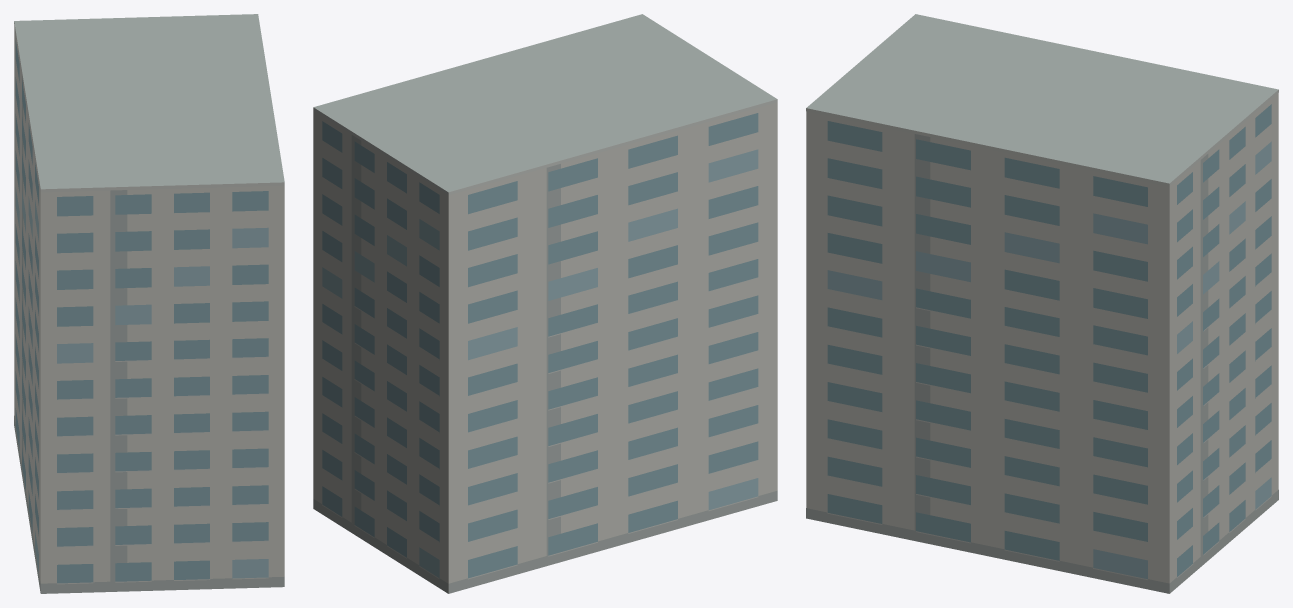
File: residential-820fa88e-b2b8-406a-8086-c8ea283d2830.glb
3 renders of one model, left to right at view 1: azimuth 30°, elevation 25°; view 2: azimuth 150°, elevation 25°; view 3: azimuth 270°, elevation 25°, orthographic. The views are drawn at different scales.
Parts seen in each view (by area): view 1: residential-820fa88e-b2b8-406a-8086-c8ea283d2830.tmp; view 2: residential-820fa88e-b2b8-406a-8086-c8ea283d2830.tmp; view 3: residential-820fa88e-b2b8-406a-8086-c8ea283d2830.tmp.
Boxes of the visible parts, left/top/right/bottom form: residential-820fa88e-b2b8-406a-8086-c8ea283d2830.tmp: left=14, top=14, right=284, bottom=593; residential-820fa88e-b2b8-406a-8086-c8ea283d2830.tmp: left=313, top=14, right=777, bottom=593; residential-820fa88e-b2b8-406a-8086-c8ea283d2830.tmp: left=806, top=14, right=1278, bottom=593.
Bounding box in the file's own units: 27.48 × 31 × 32.37.
